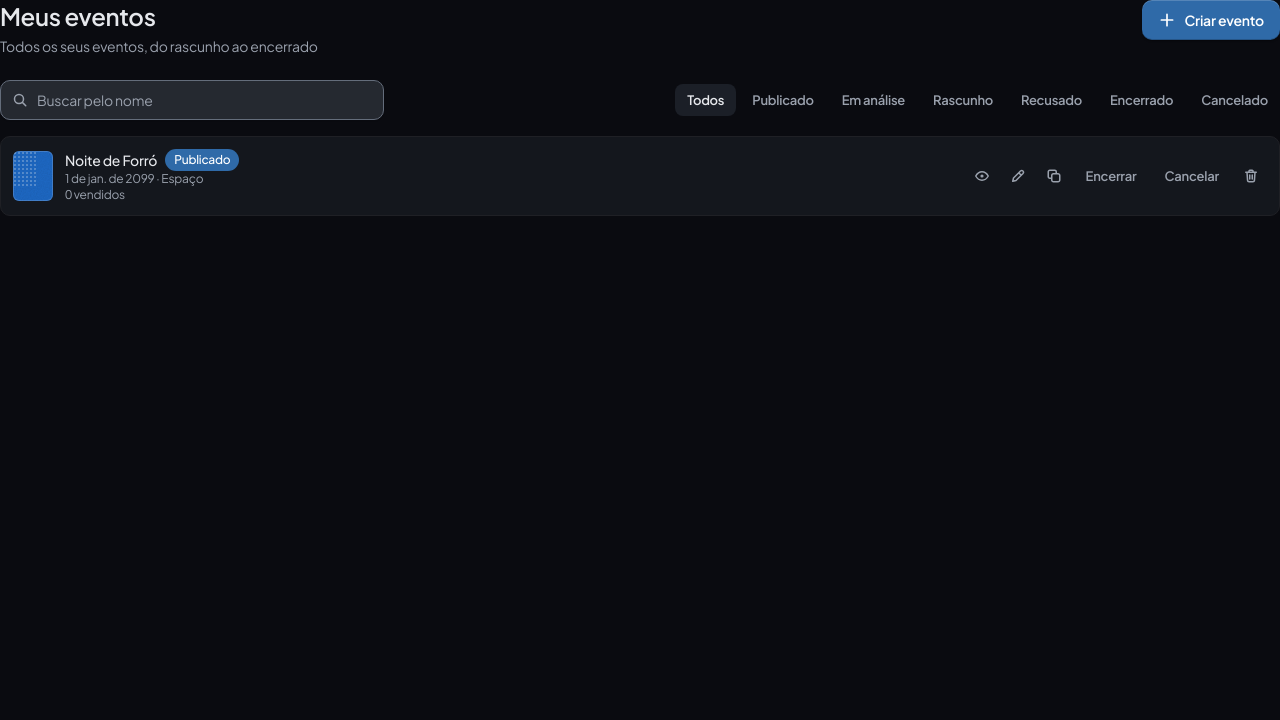
Scenario: Todos os eventos (tela 02) › Cancelar abre a janela
The image size is (1280, 720).
Click the button with aria-label "Cancelar Noite de Forró": (1192, 176) [1153,160,1231,192]
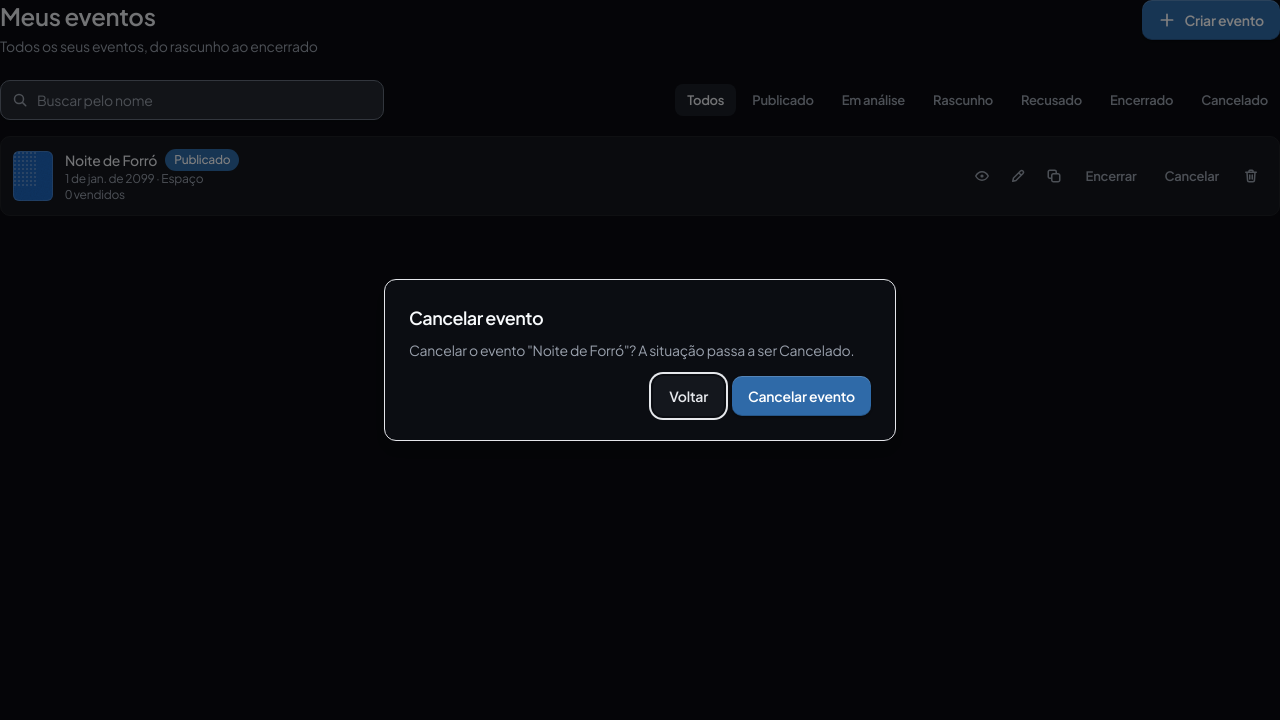
Now the dialog shows "Cancelar o evento \"Noite de Forró\"", box [409,341,854,359]
